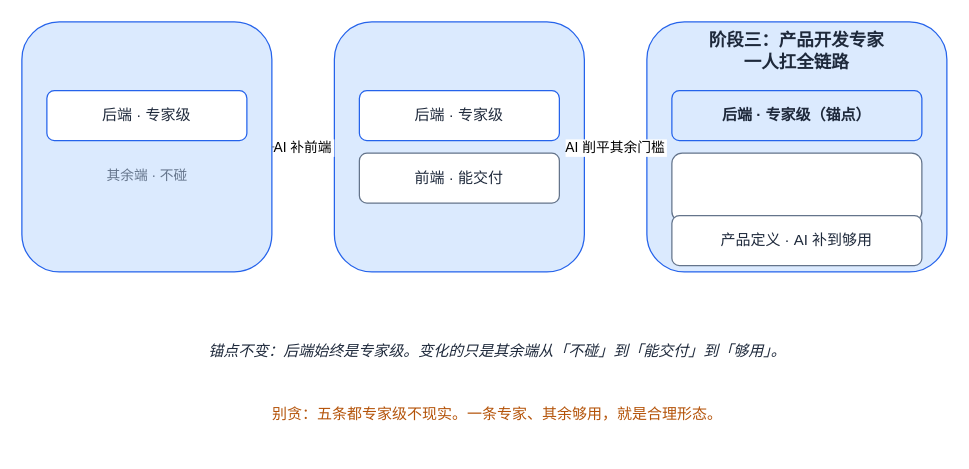
This 969x469 diagram has some shape labels left out. The box of each missing label's shape, as (x1, y1, x2, y2) in pixels:
前端 / DevOps / 运营 · 能交付: (671, 152, 922, 222)
阶段一：纯后端 只盯自己一摊: (21, 21, 272, 272)
阶段二：全栈 前后端打通: (333, 21, 584, 272)
